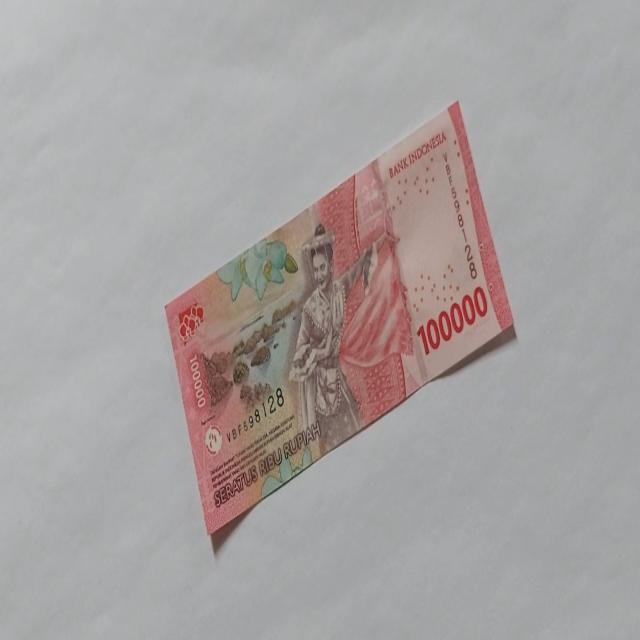seratus ribu rupiah: (164, 99, 516, 536), (288, 222, 382, 444)
